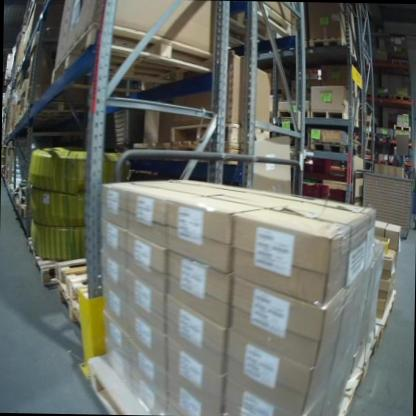pallet: (47, 19, 220, 96), (226, 0, 297, 46), (87, 362, 148, 415), (26, 237, 93, 283), (53, 264, 102, 300), (169, 120, 237, 145), (54, 292, 84, 326), (309, 107, 360, 125), (363, 328, 385, 368), (376, 290, 396, 330), (309, 140, 357, 156), (307, 34, 348, 49), (392, 94, 410, 102), (374, 92, 393, 99), (392, 124, 411, 131), (393, 135, 412, 142), (391, 58, 409, 65)
pallet_truck: (371, 128, 393, 175)
stillage: (356, 167, 414, 239)
